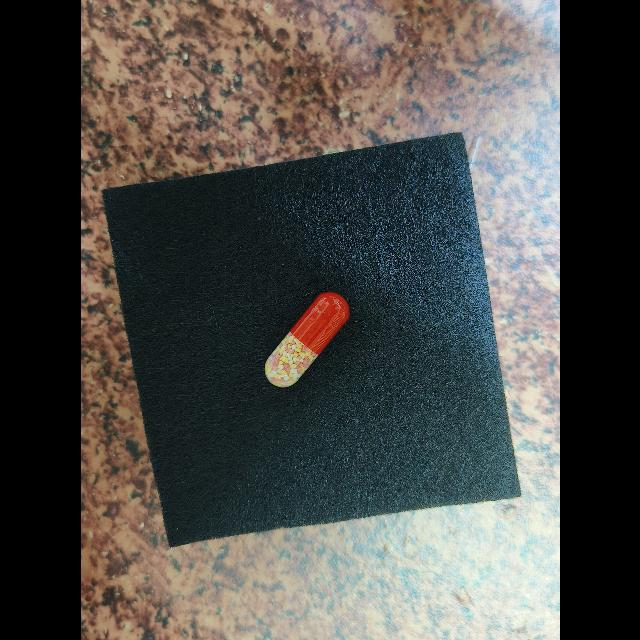Intact Capsule: (264, 292, 349, 388)
